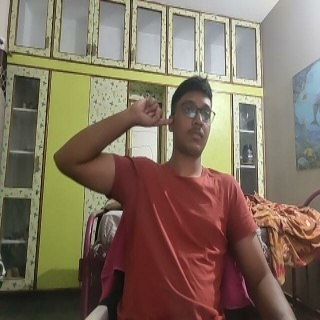Deaf: (126, 96, 173, 131)
Face: (168, 76, 213, 161)
